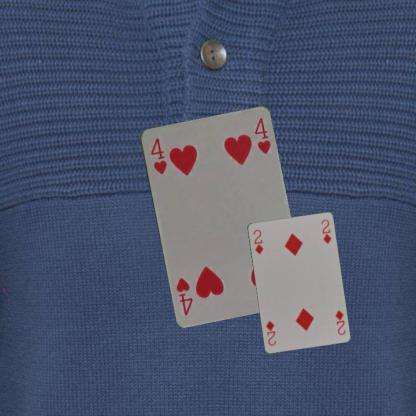2d: (332, 308, 347, 336), (250, 227, 264, 255)
4h: (147, 135, 168, 176)
